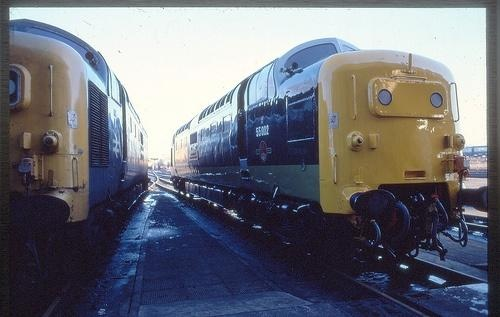train: (171, 39, 472, 283), (12, 16, 151, 284)
